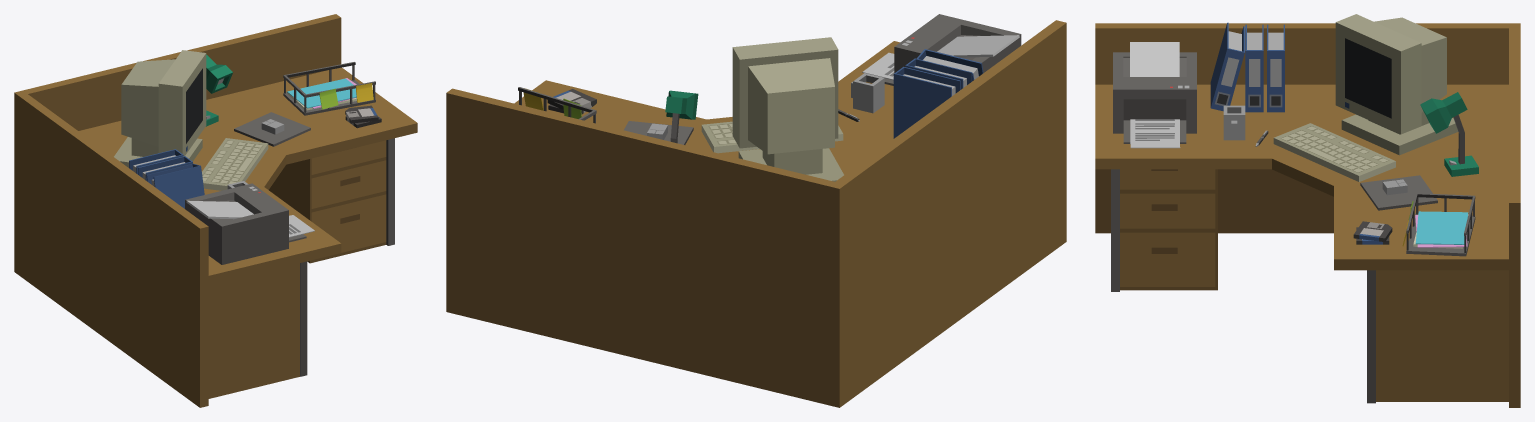
File: SO_DeskPreset_06.fbx
3 views of the same model, side by side, from view 1: azimuth 30°, elevation 25°; view 2: azimuth 150°, elevation 25°; view 3: azimuth 270°, elevation 25° (orthographic). The views are drawn at different scales.
Parts seen in each view (by area): view 1: SO_DeskPreset_06; view 2: SO_DeskPreset_06; view 3: SO_DeskPreset_06.
Part boxes in pixels (box(x1,y1,x2,y2)): SO_DeskPreset_06: box(14, 14, 417, 407); SO_DeskPreset_06: box(446, 14, 1066, 407); SO_DeskPreset_06: box(1095, 14, 1520, 407).
Bounding box in the file's own units: 4.08 × 2.7 × 4.08.
